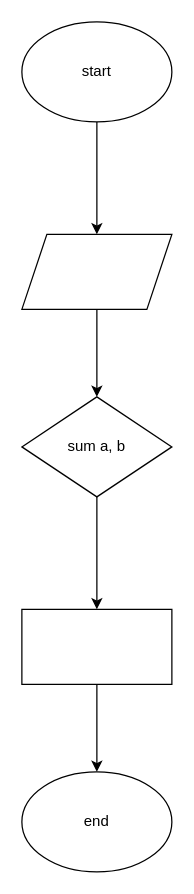
The diagram is 194 pixels wide and 894 high, and some of its shapes have lost their labels. The shapes that lost their labels are listed below. From the top down, each one's centre as x and y in pixels, then its label:
the point at 96,271: nhập a, b
the point at 96,646: tổng a, b
